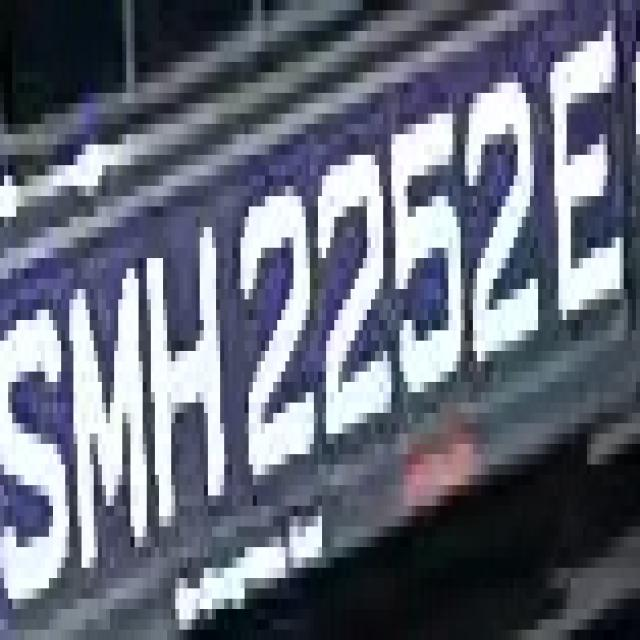2: (216, 165, 322, 485), (302, 134, 399, 475), (452, 62, 546, 372)
5: (383, 93, 469, 402)
E: (542, 41, 628, 320)
H: (147, 206, 236, 506)
M: (69, 248, 155, 557)
S: (8, 258, 69, 609)
